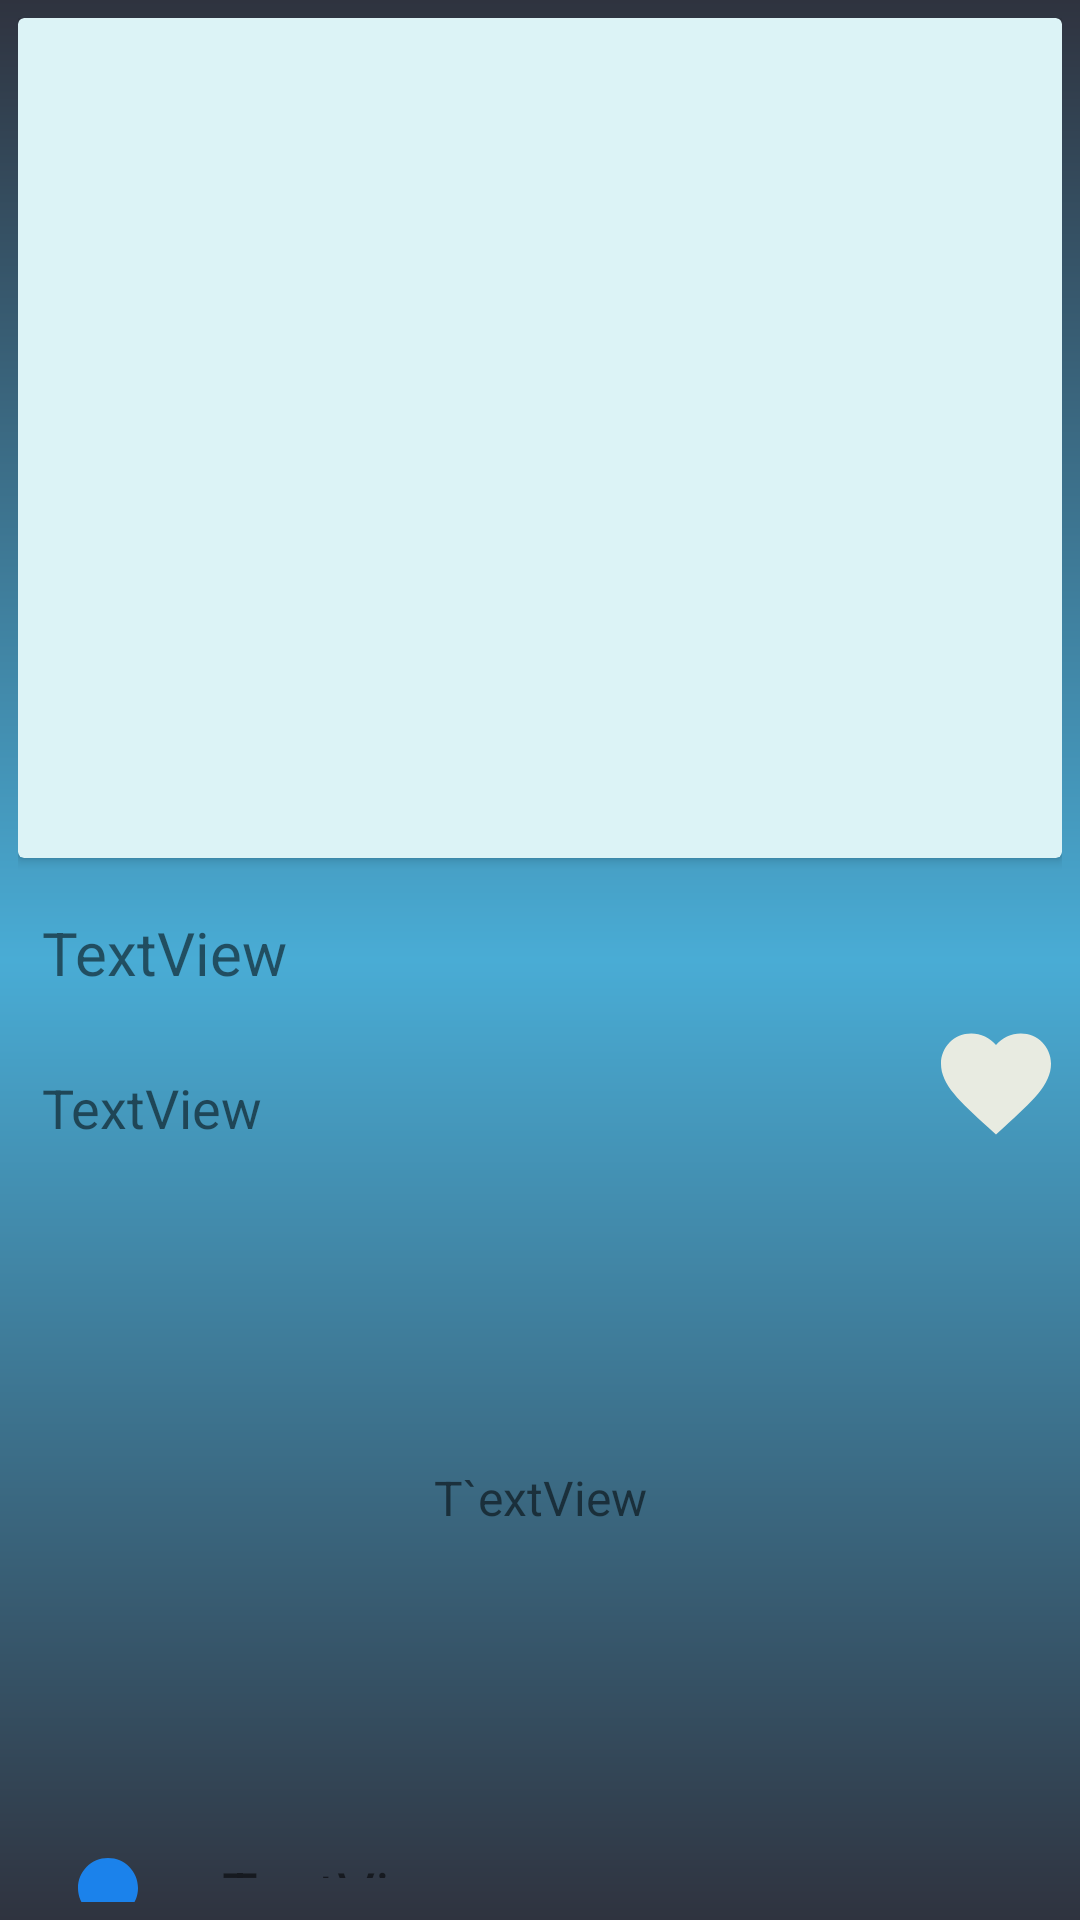

Screen size 1080px×1920px. Icon name, then its box in pixels as Rect(x1, y1, x2, y2):
favorite: Rect(941, 1033, 1051, 1134)
